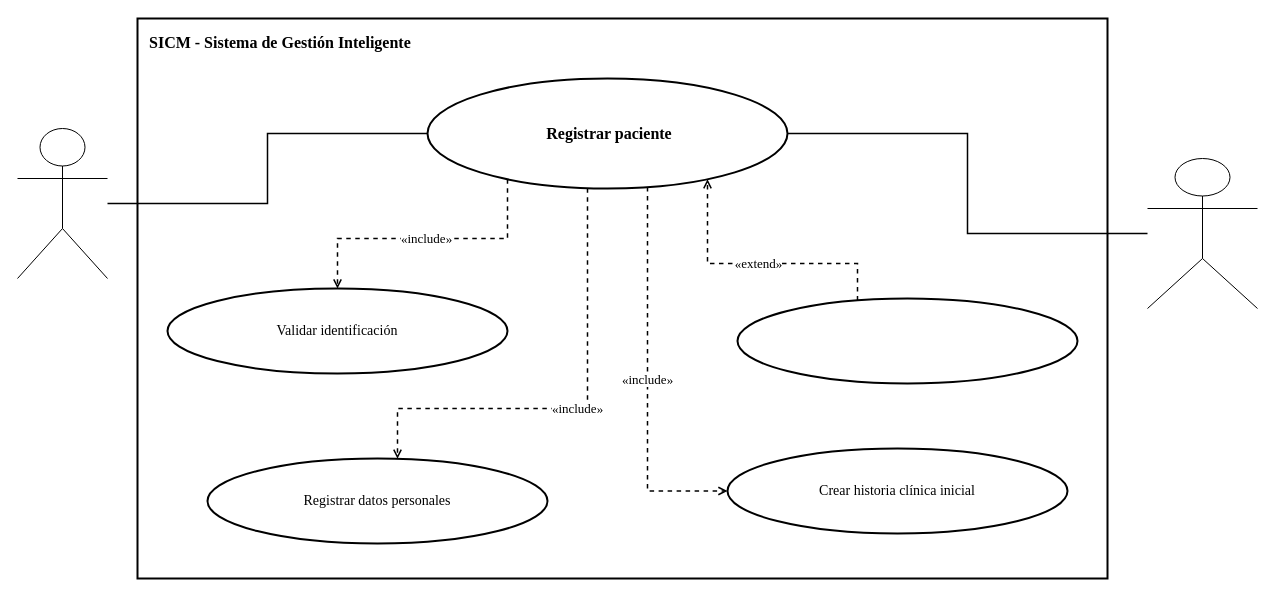
This 1275x596 diagram has some shape labels left out. The shapes that lost their labels are listed below. From the top down, each one's centre as x and y in pixels, then its label:
At point (62, 203): "Recepcionista".
At point (1202, 233): "Paciente".
At point (907, 340): "Actualizar paciente existente".
